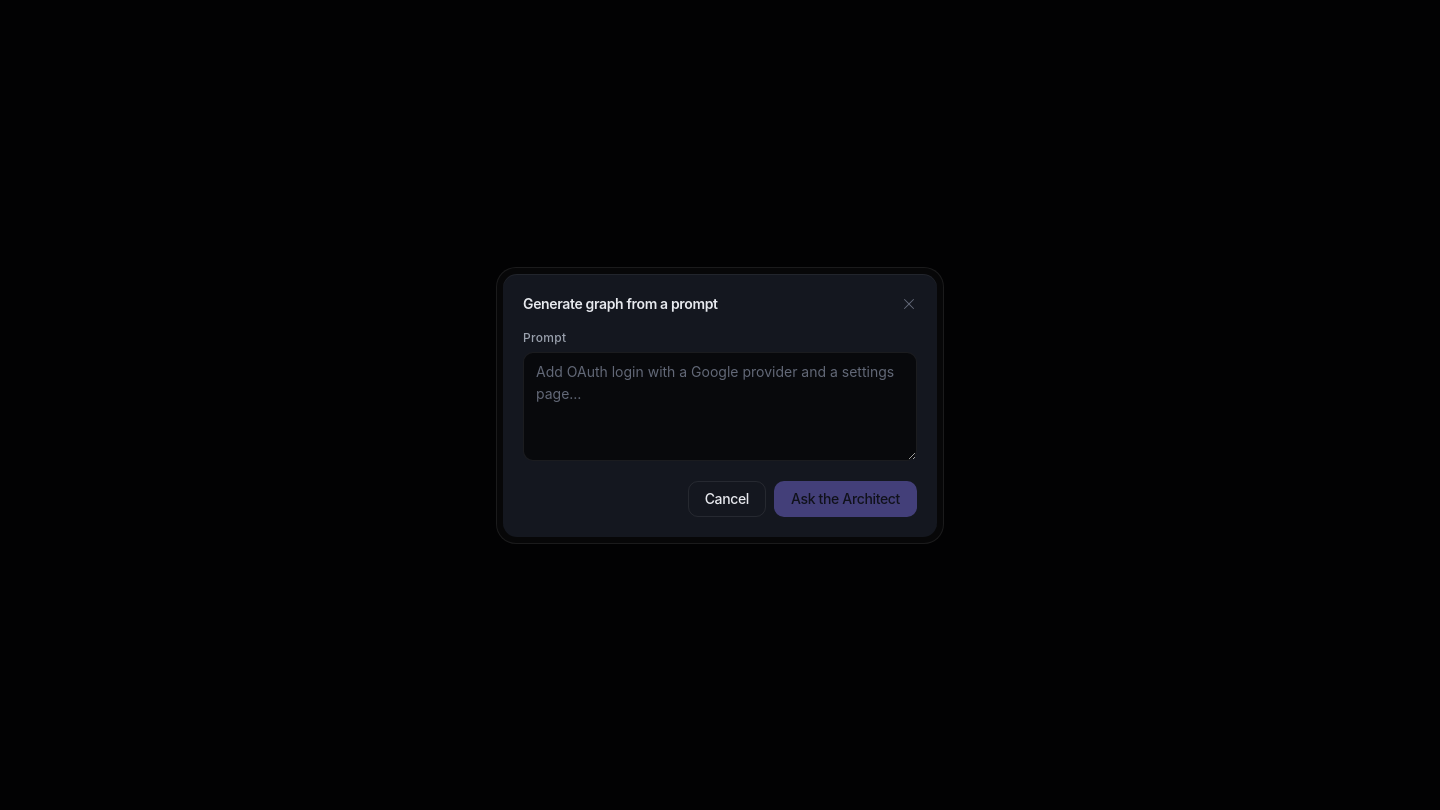
Scenario: PlanPanel (Socratic two-step) › step 1 surfaces the Architect's clarifying questions
Type "add auth" into the text box with placeholder "Add OAuth login with a Google provider and a settings page…" at {"x": 720, "y": 406}, box [523,352,917,460]
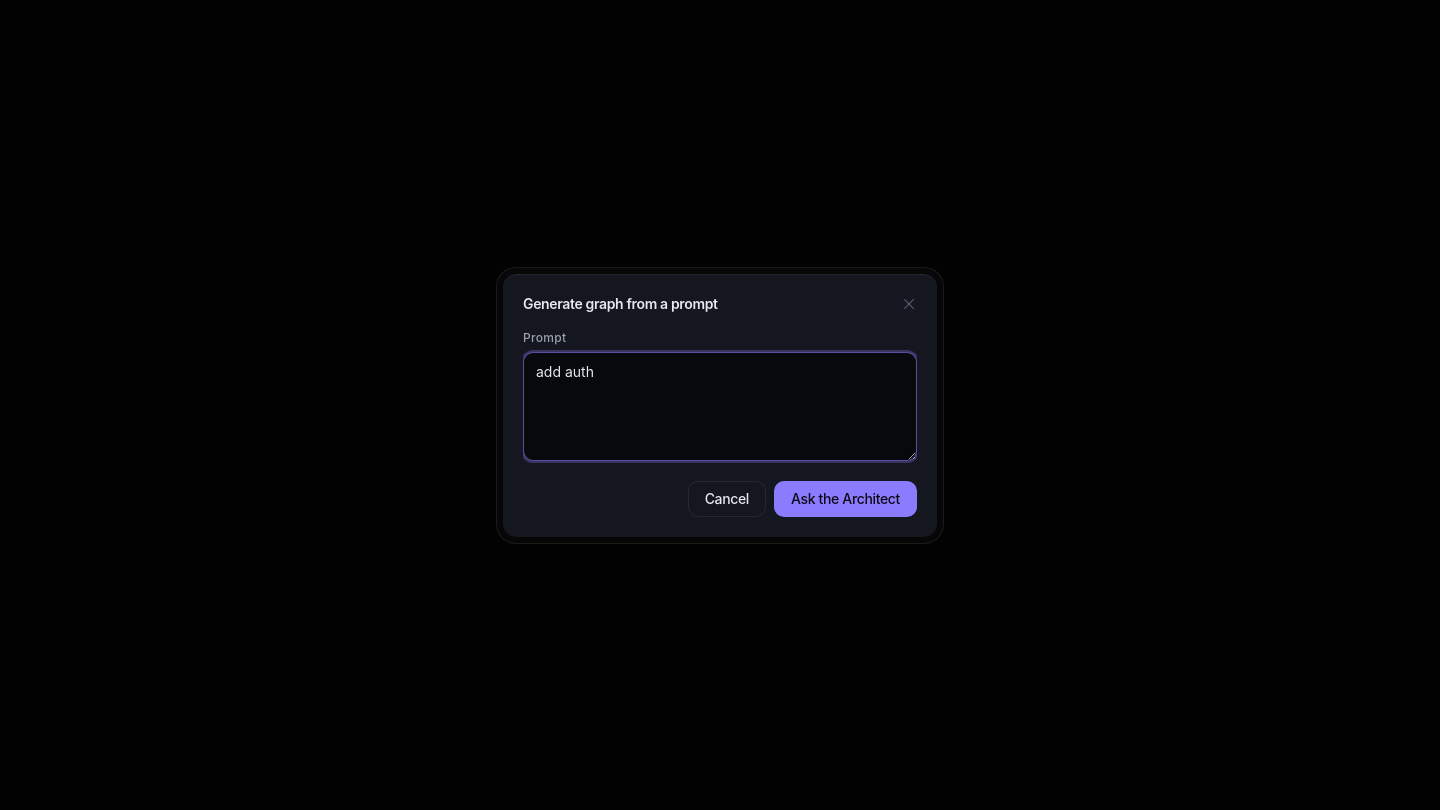
Click the button "Ask the Architect" at {"x": 846, "y": 498}, box [774,480,917,516]
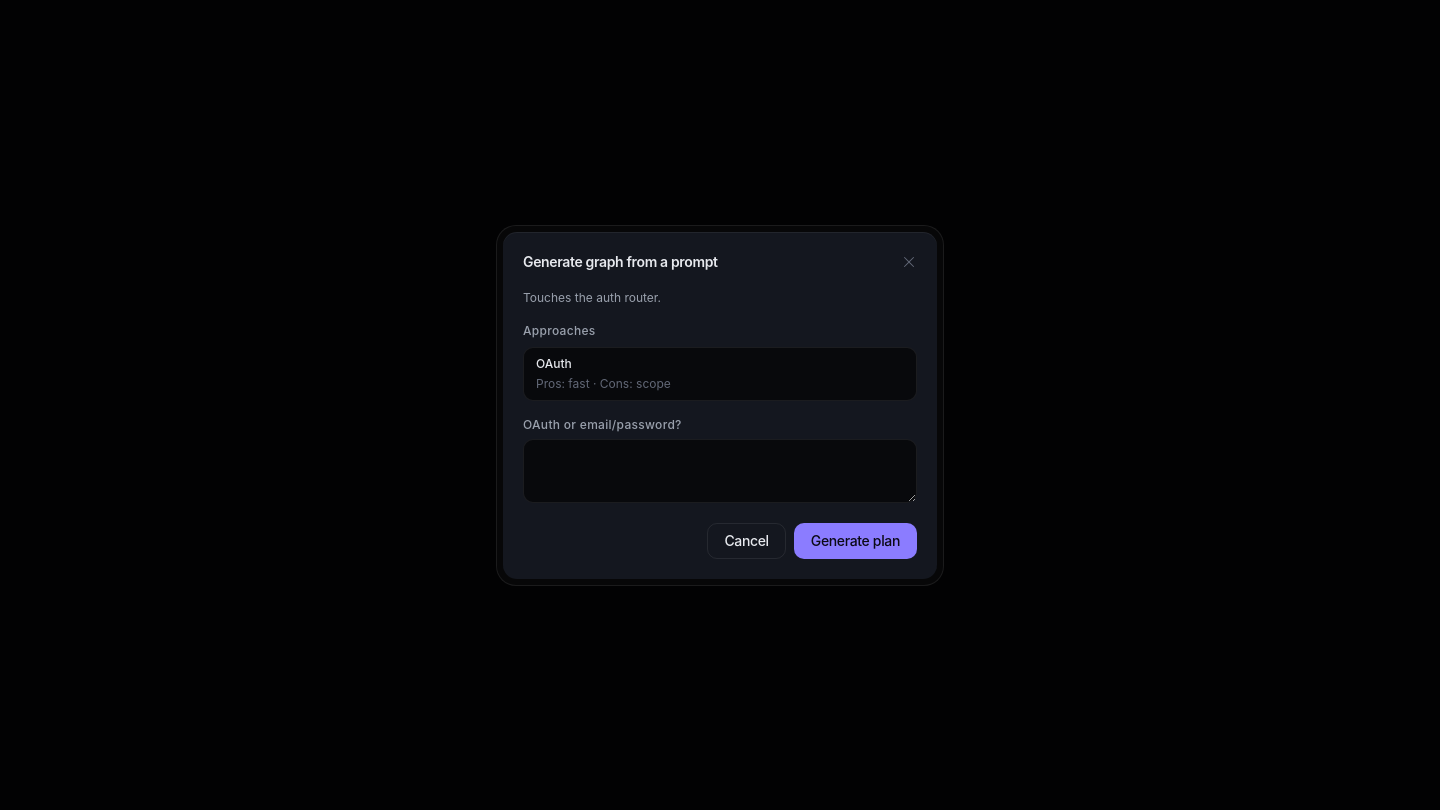
Now the text "OAuth or email/password?" is shown, box [523,417,682,432]
Now the text "Touches the auth router." is shown, box [523,290,661,304]
